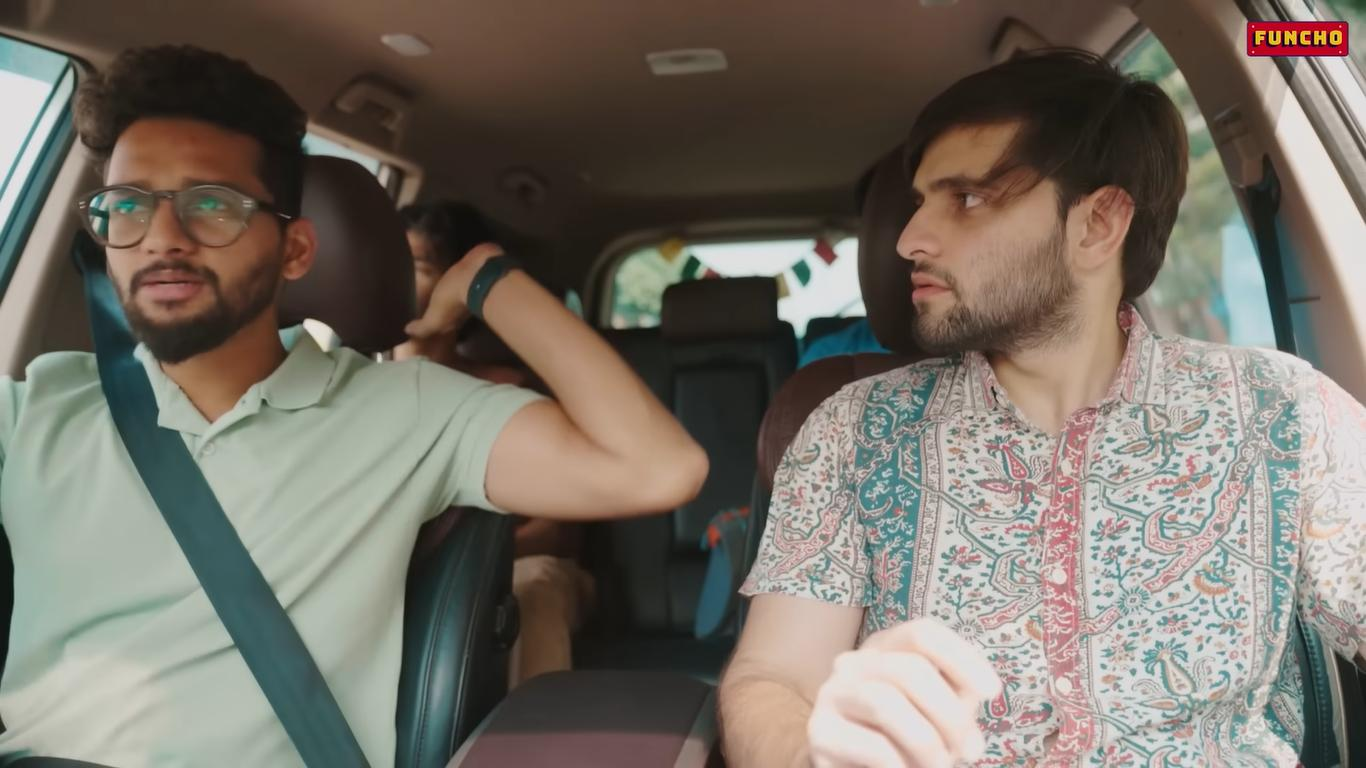no-seatbelt: (875, 375, 1280, 757)
seatbelt: (55, 352, 359, 729)
